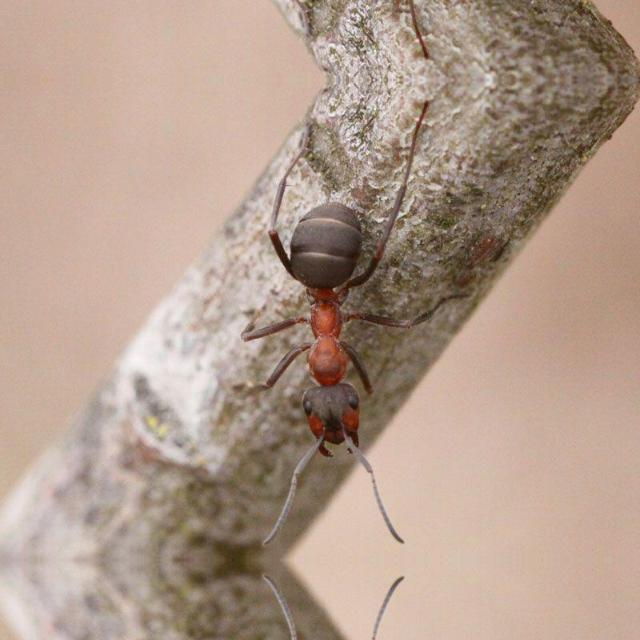Formica: (254, 167, 426, 473)
